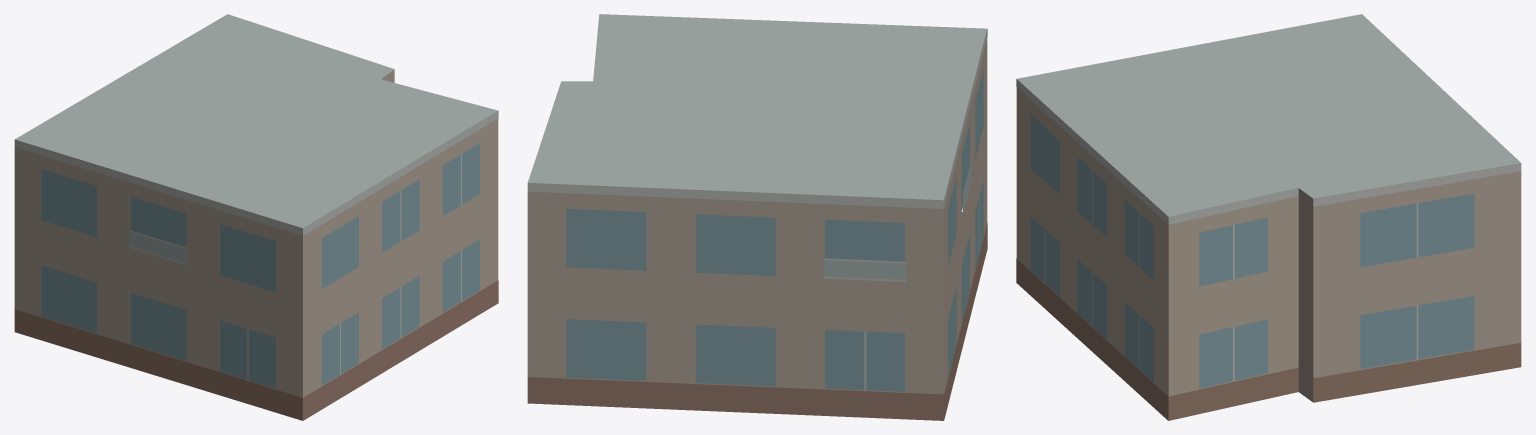
File: survey-upis-32850041.glb
3 renders of one model, left to right at view 1: azimuth 30°, elevation 25°; view 2: azimuth 150°, elevation 25°; view 3: azimuth 270°, elevation 25°, orthographic. The views are drawn at different scales.
Parts seen in each view (by area): view 1: survey-upis-32850041.tmp; view 2: survey-upis-32850041.tmp; view 3: survey-upis-32850041.tmp.
Part boxes in pixels (x1,y1,x2,y2): survey-upis-32850041.tmp: [14, 14, 498, 420]; survey-upis-32850041.tmp: [527, 14, 987, 420]; survey-upis-32850041.tmp: [1016, 14, 1521, 420].
Bounding box in the file's own units: 13.01 × 6.1 × 13.69.
